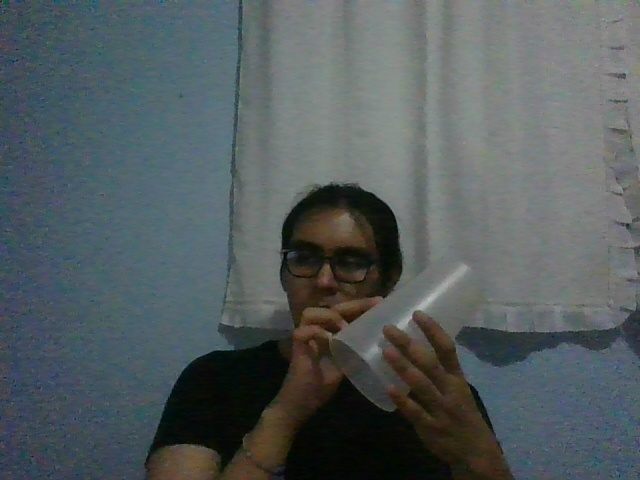vaso: (329, 260, 479, 412)
